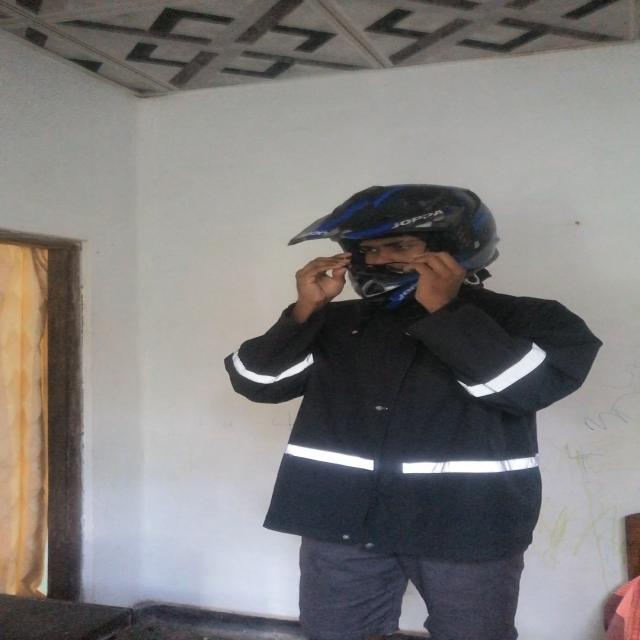Helmet_Wearer: (304, 178, 512, 306)
Jacket_Wearer: (243, 271, 608, 536)
